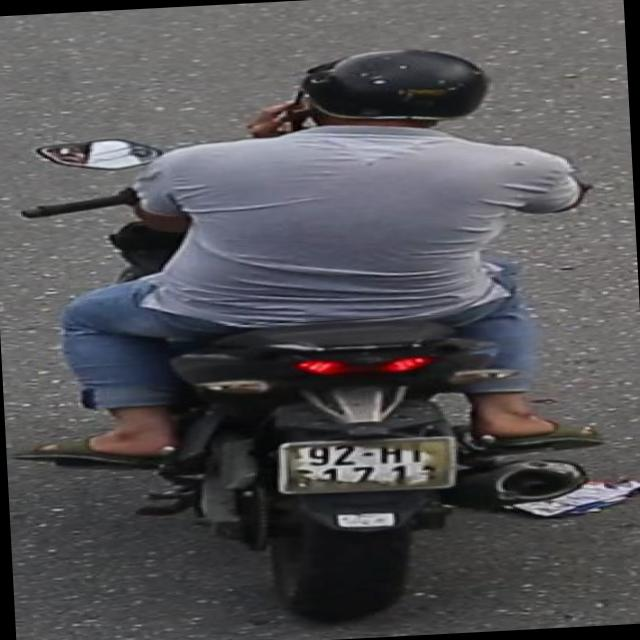LP: (270, 420, 474, 509)
helmet: (280, 36, 507, 141)
